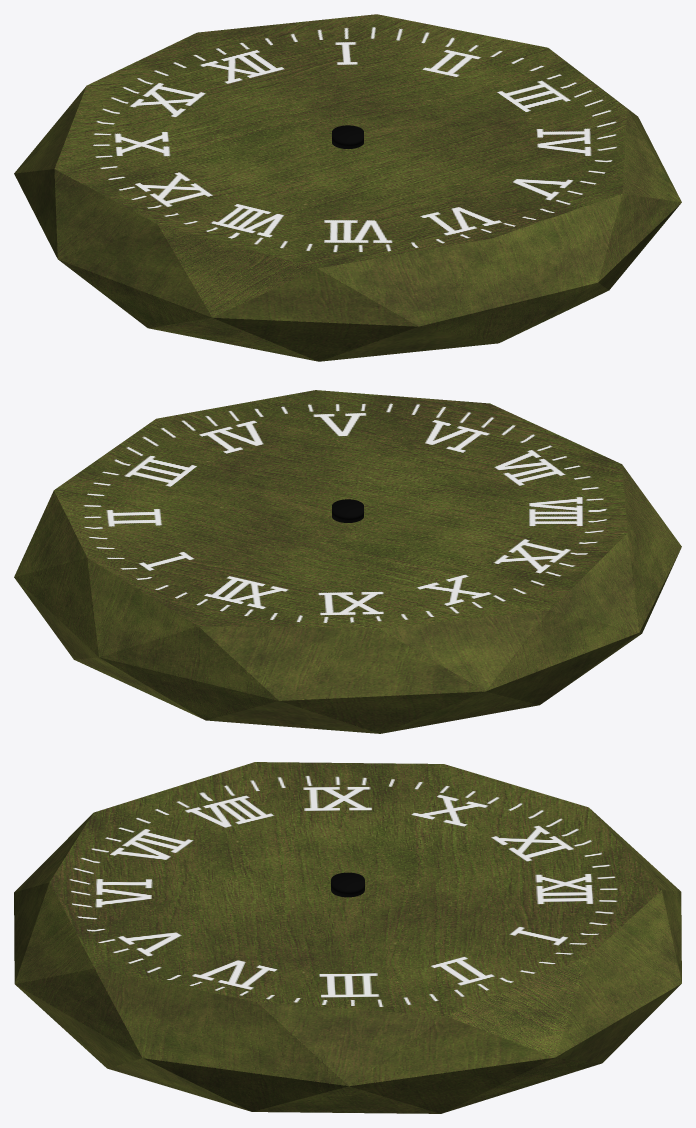
File: greenwoodclock.gltf
3 views of the same model, one above another, from view 1: azimuth 30°, elevation 25°; view 2: azimuth 150°, elevation 25°; view 3: azimuth 270°, elevation 25° (orthographic). The views are drawn at different scales.
Visible parts, largest first — view 1: Icosphere, Cylinder.001; view 2: Icosphere, Cylinder.001; view 3: Icosphere, Cylinder.001.
Part boxes in pixels (left/top/right/bottom): Icosphere: left=14, top=14, right=681, bottom=361; Cylinder.001: left=332, top=125, right=363, bottom=148; Icosphere: left=14, top=390, right=681, bottom=733; Cylinder.001: left=332, top=499, right=363, bottom=522; Icosphere: left=14, top=762, right=681, bottom=1113; Cylinder.001: left=331, top=872, right=364, bottom=897.
Bounding box in the file's own units: 2 × 0.3598 × 1.9.
Materials: 3 (2 with a texture image).
